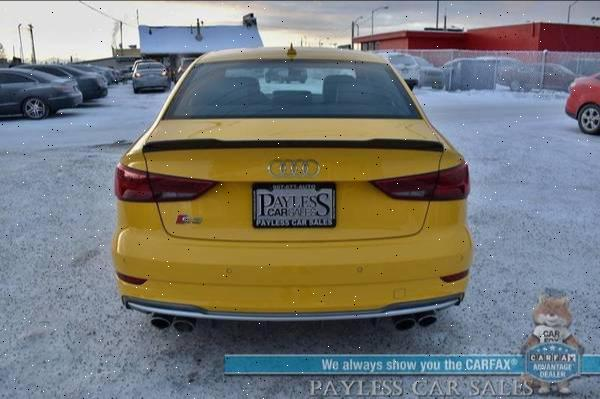Left_Taillight: (113, 162, 216, 202)
Rear_Bumper: (111, 197, 471, 318)
Rear_Windshield: (159, 59, 422, 119)
Right_Taillight: (370, 158, 471, 202)
Roof: (193, 44, 388, 63)
Tailgate: (121, 119, 462, 242)
